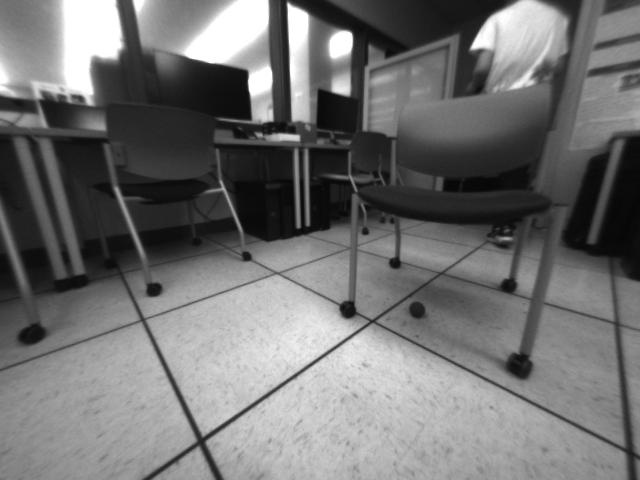dogtoy: (404, 297, 432, 322)
